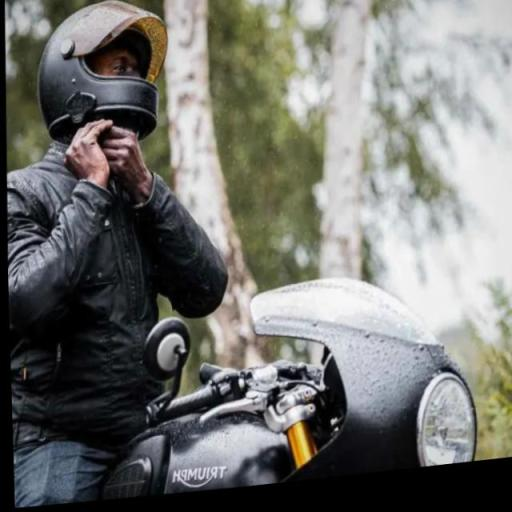Helmet: (25, 0, 181, 172)
Motor: (7, 254, 512, 512)
